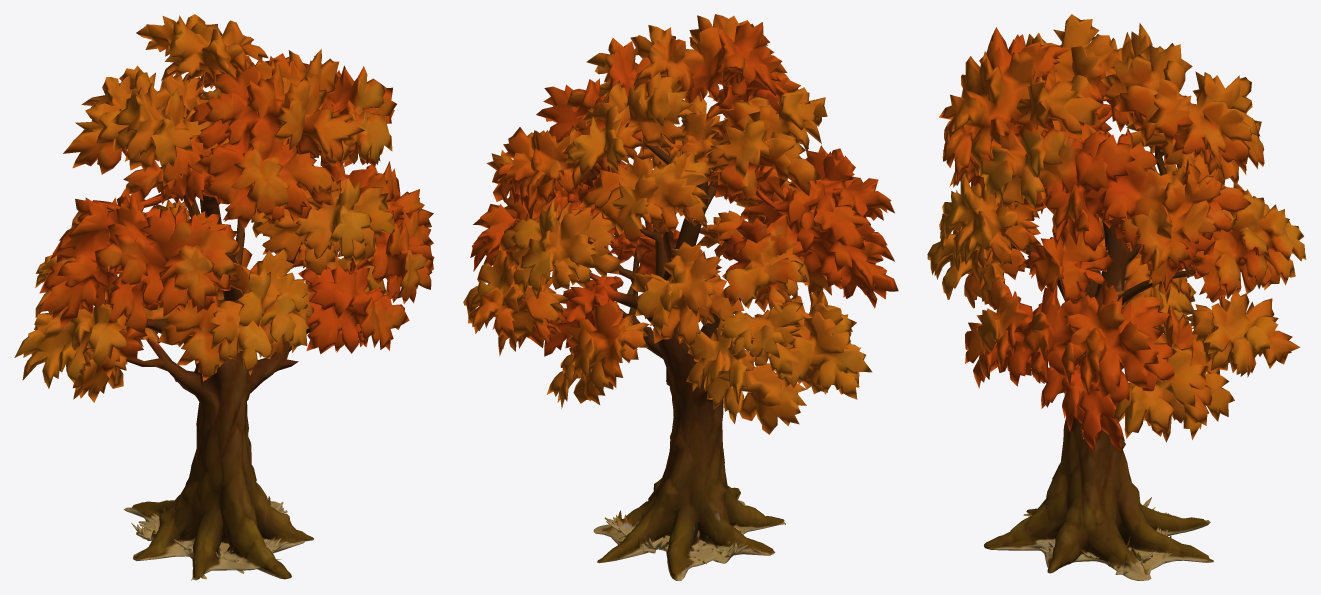
The model's file is nat_tree_maple_v1.glb.
3 views of the same model, side by side, from view 1: azimuth 30°, elevation 25°; view 2: azimuth 150°, elevation 25°; view 3: azimuth 270°, elevation 25° (orthographic). The views are drawn at different scales.
Visible parts, largest first — view 1: tripo_node_c50200f0-4e83-41b1-932e-91cc95bd10d1; view 2: tripo_node_c50200f0-4e83-41b1-932e-91cc95bd10d1; view 3: tripo_node_c50200f0-4e83-41b1-932e-91cc95bd10d1.
Boxes of the visible parts, bbox=[...] form: tripo_node_c50200f0-4e83-41b1-932e-91cc95bd10d1: bbox=[14, 14, 434, 580]; tripo_node_c50200f0-4e83-41b1-932e-91cc95bd10d1: bbox=[463, 14, 898, 580]; tripo_node_c50200f0-4e83-41b1-932e-91cc95bd10d1: bbox=[927, 14, 1306, 580].
Bounding box in the file's own units: 0.8331 × 0.982 × 0.661.
1 material, 1 textured.
